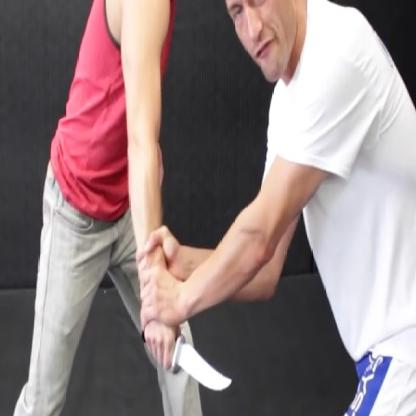knife: (136, 321, 238, 400)
